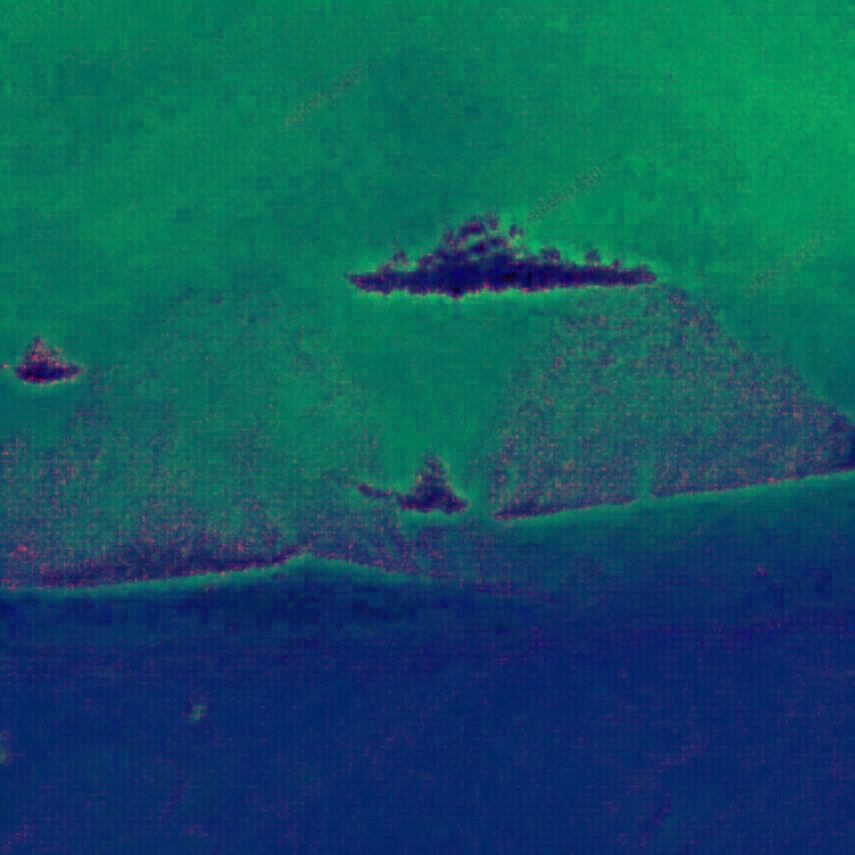rip_current: (286, 228, 560, 526)
